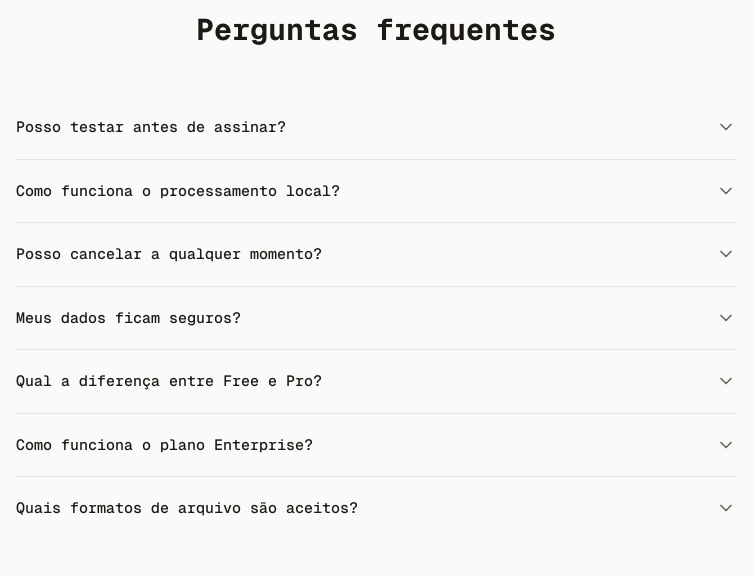
Test: PricingFAQ › aria-expanded state › clicking a second item collapses the first (mutual exclusion)
Click the button "Posso testar antes de assinar?".
click(151, 126)  # box [16,96,736,158]
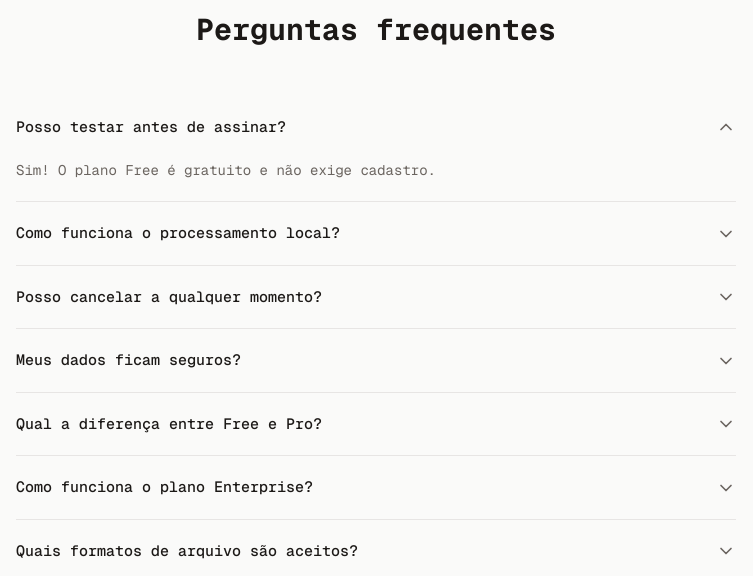
Now the button "Posso testar antes de assinar?" is expanded, box [16,96,736,158]
Click the button "Como funciona o processamento local?".
click(178, 233)  # box [16,202,736,265]
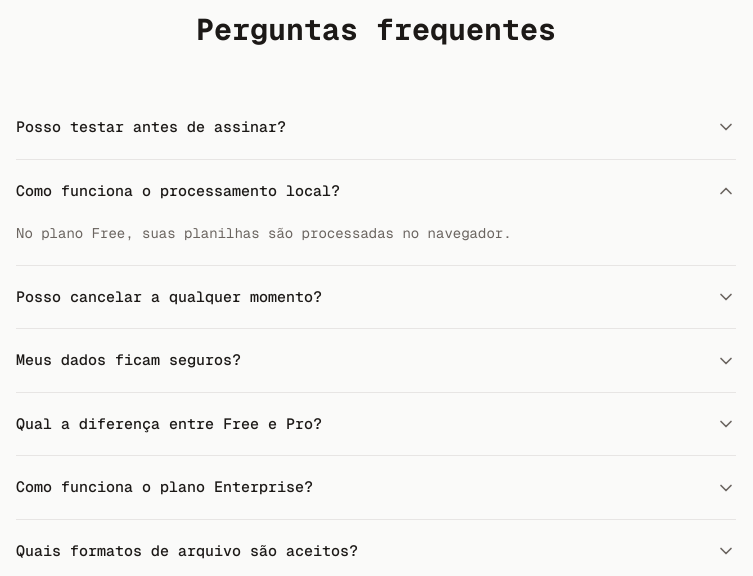
Now the button "Como funciona o processamento local?" is expanded, box [16,160,736,222]
Now the button "Posso testar antes de assinar?" is collapsed, box [16,96,736,158]
